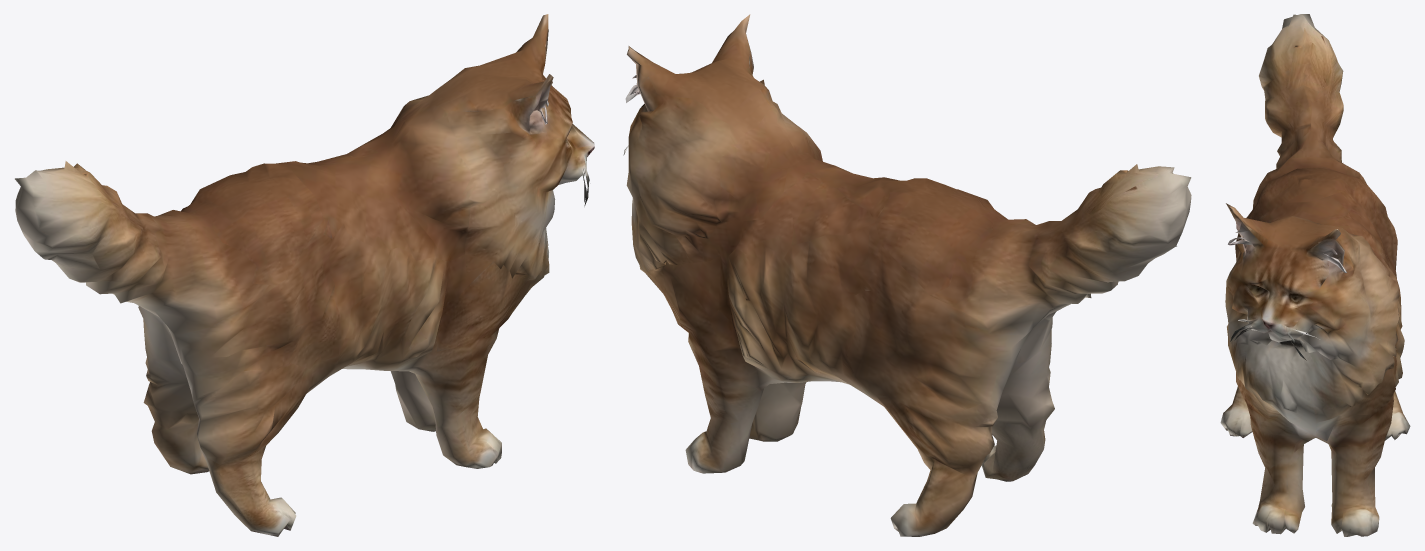
File: COSMICGREG-lo.glb
3 renders of one model, left to right at view 1: azimuth 30°, elevation 25°; view 2: azimuth 150°, elevation 25°; view 3: azimuth 270°, elevation 25°, orthographic. The views are drawn at different scales.
Visible parts, largest first — view 1: tripo_node_2386f51d-eb6c-48d8-bfdc-47b4fe3e50be; view 2: tripo_node_2386f51d-eb6c-48d8-bfdc-47b4fe3e50be; view 3: tripo_node_2386f51d-eb6c-48d8-bfdc-47b4fe3e50be.
Boxes of the visible parts, x1=… form: tripo_node_2386f51d-eb6c-48d8-bfdc-47b4fe3e50be: x1=15, y1=14, x2=594, y2=536; tripo_node_2386f51d-eb6c-48d8-bfdc-47b4fe3e50be: x1=623, y1=14, x2=1191, y2=536; tripo_node_2386f51d-eb6c-48d8-bfdc-47b4fe3e50be: x1=1220, y1=14, x2=1410, y2=536.
Size of the model in its own units: 1.48 by 0.9918 by 0.4968.
Materials: 1 (1 with a texture image).
